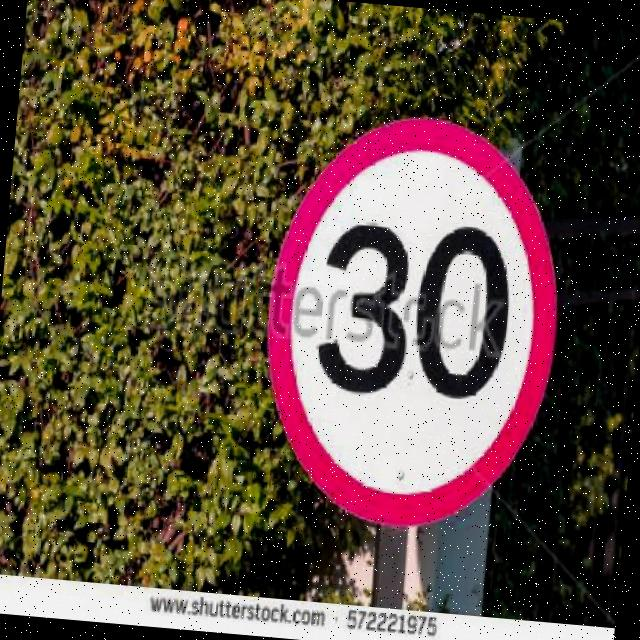Ograniczenie predkosci do 30: (254, 112, 566, 538)
